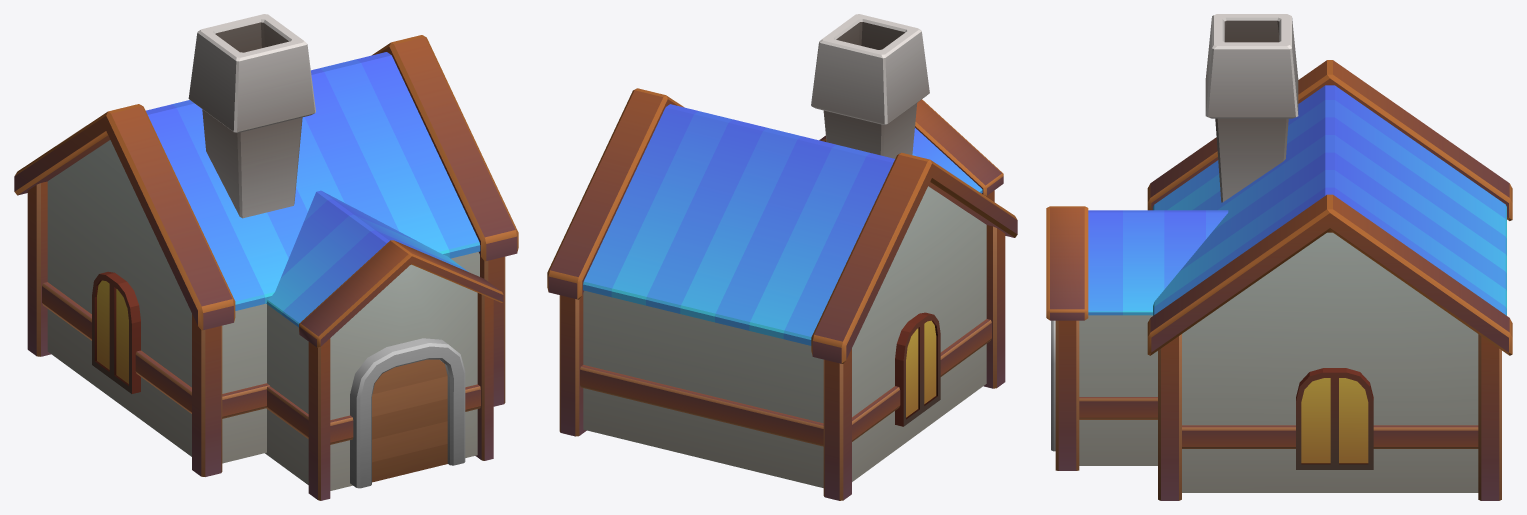
Rendered from Simple_House.fbx.
The picture shows the model from 3 angles, left to right: view 1: azimuth 30°, elevation 25°; view 2: azimuth 150°, elevation 25°; view 3: azimuth 270°, elevation 25°; orthographic projection. The views are drawn at different scales.
Parts seen in each view (by area): view 1: house 01.003; view 2: house 01.003; view 3: house 01.003.
Boxes of the visible parts, box(x1,y1,x2,y2) form: house 01.003: box(14, 14, 518, 500); house 01.003: box(547, 14, 1017, 500); house 01.003: box(1046, 14, 1512, 500).
Size of the model in its own units: 80.07 by 91.53 by 104.
1 material, 1 textured.
